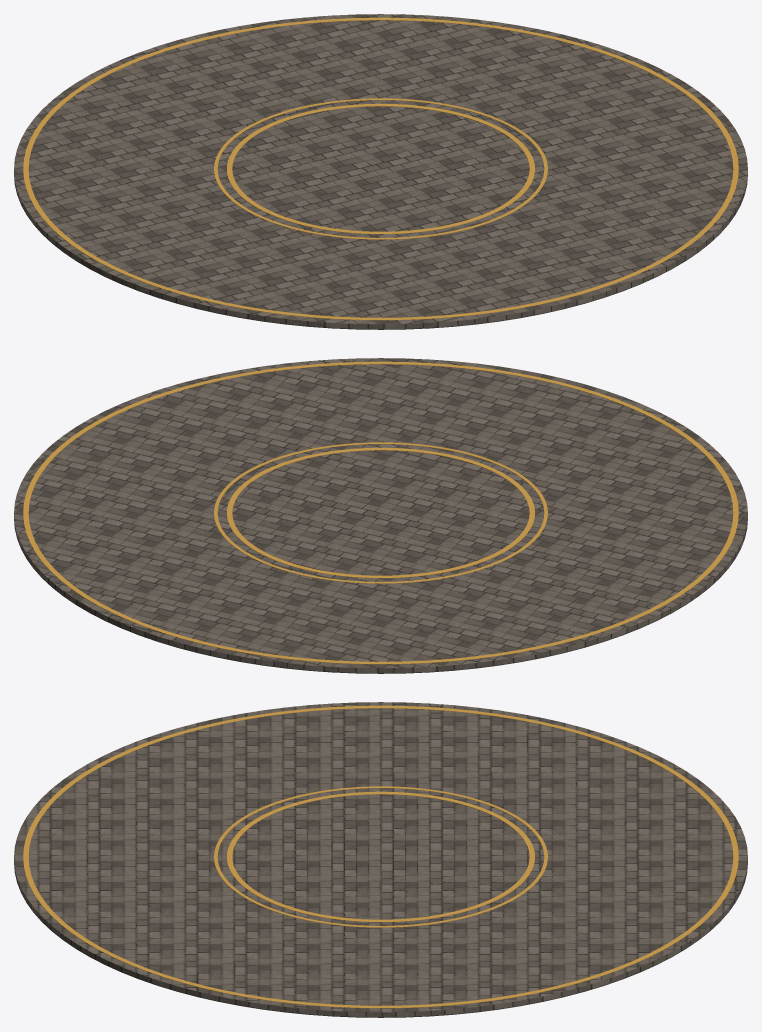
File: env_arena_floor_01.glb
3 views of the same model, one above another, from view 1: azimuth 30°, elevation 25°; view 2: azimuth 150°, elevation 25°; view 3: azimuth 270°, elevation 25° (orthographic).
Parts seen in each view (by area): view 1: env_arena_floor_01; view 2: env_arena_floor_01; view 3: env_arena_floor_01.
Part boxes in pixels (x1,y1,x2,y2): env_arena_floor_01: (14,14,747,329); env_arena_floor_01: (14,358,747,673); env_arena_floor_01: (14,702,747,1017).
Size of the model in its own units: 30 by 0.265 by 30.
2 materials, 1 textured.
